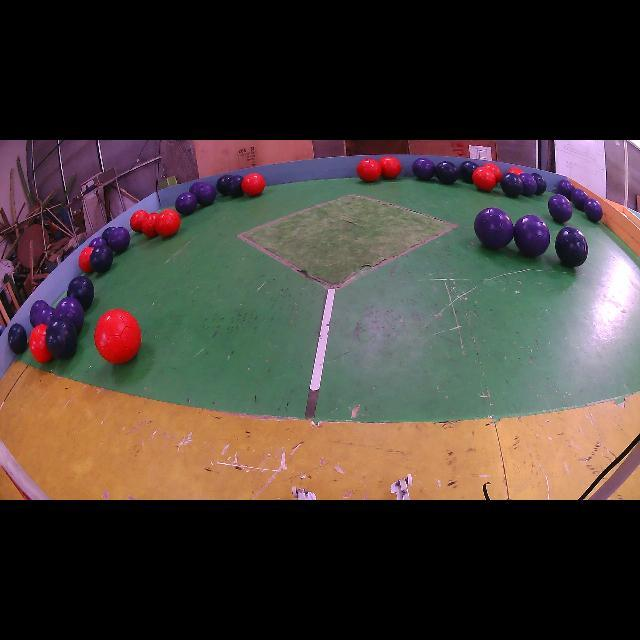B: (45, 316, 78, 359), (555, 226, 588, 268), (68, 276, 95, 310), (90, 245, 114, 272), (500, 172, 524, 198), (8, 324, 28, 354), (435, 161, 459, 184), (459, 161, 479, 182), (531, 172, 546, 194)
P: (474, 208, 514, 249), (514, 215, 550, 258), (54, 296, 84, 332), (30, 300, 55, 328), (548, 194, 572, 222), (30, 300, 49, 328), (175, 192, 198, 215), (108, 228, 130, 252), (412, 158, 435, 180), (195, 182, 216, 206), (519, 172, 538, 196), (584, 198, 602, 222), (571, 189, 588, 210), (558, 179, 574, 200), (89, 238, 106, 248)
R: (94, 309, 141, 364), (29, 324, 52, 364), (154, 209, 180, 237), (356, 159, 381, 182), (472, 168, 496, 191), (241, 174, 265, 196), (379, 156, 401, 179), (141, 212, 159, 238), (130, 210, 149, 232), (482, 162, 502, 182), (79, 246, 94, 272), (508, 168, 524, 175)
